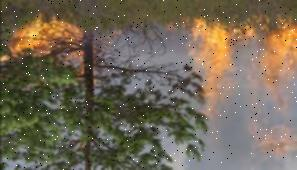fire: (182, 10, 297, 140), (2, 13, 82, 66)
